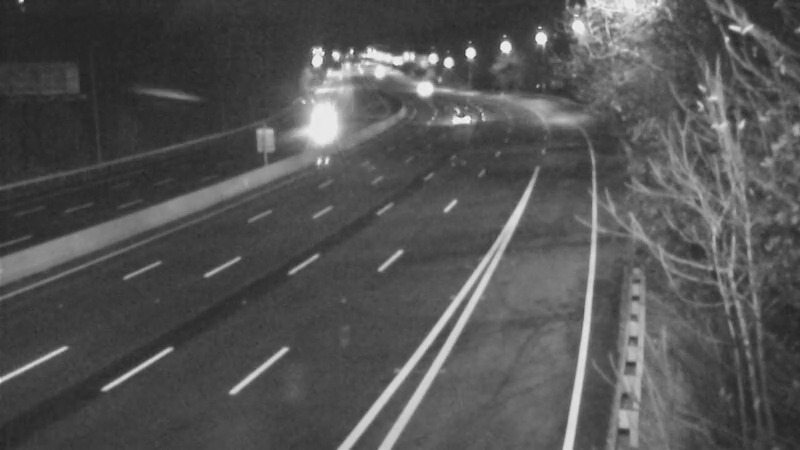vehicle: (389, 61, 439, 111), (430, 88, 480, 138), (292, 106, 342, 156)
